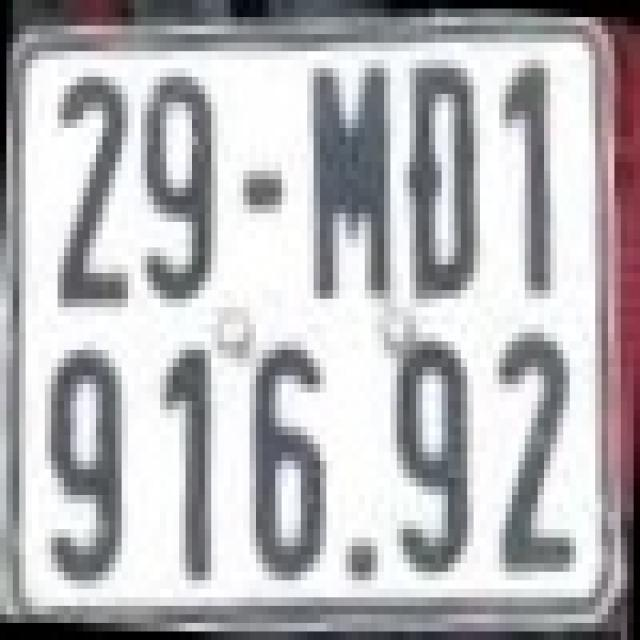1: (160, 342, 218, 580), (499, 59, 557, 290)
2: (492, 333, 582, 572), (52, 76, 134, 308)
6: (250, 342, 326, 580)
9: (391, 333, 474, 572), (45, 350, 128, 580), (140, 76, 218, 298)
B: (403, 59, 480, 298)
D: (410, 68, 480, 299)
M: (294, 46, 397, 312)
